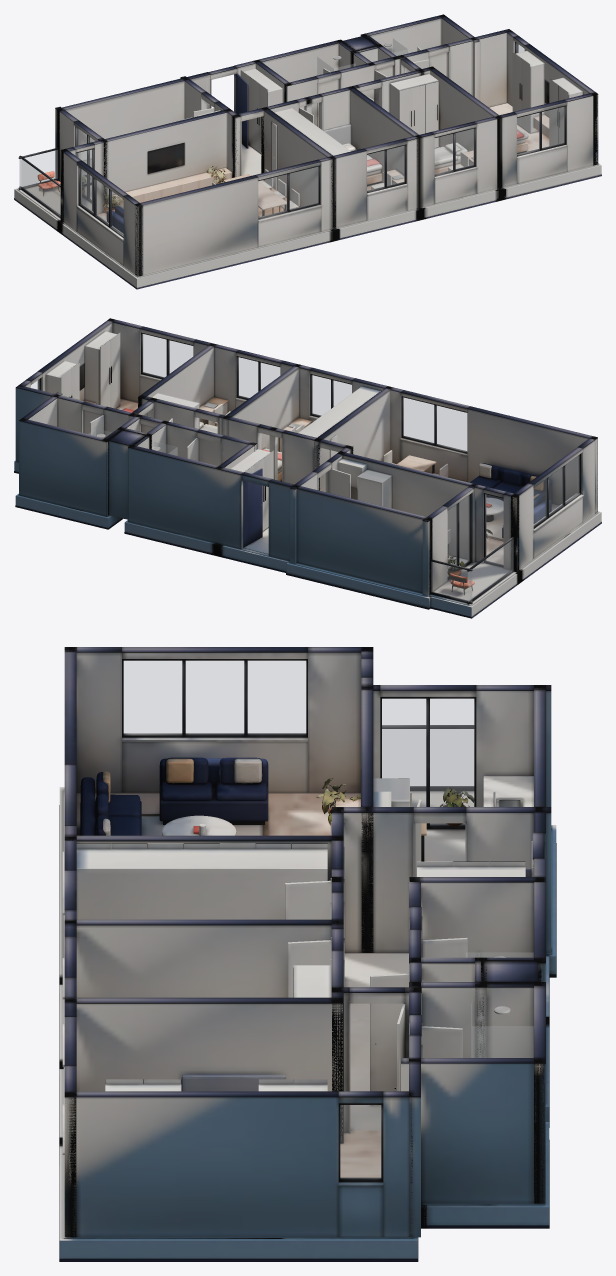
The picture shows the model from 3 angles, top to bottom: view 1: azimuth 30°, elevation 25°; view 2: azimuth 150°, elevation 25°; view 3: azimuth 270°, elevation 25°; orthographic projection. The views are drawn at different scales.
Parts seen in each view (by area): view 1: plan, glass3_m, glass6_m, glass2_m, glass5_m, glass4_m, railg3_m, railg0_m, glass1_m; view 2: plan, glass3_m, glass2_m, glass6_m, railg3_m, railg0_m, glass0_m, glass1_m, glass5_m, glass4_m; view 3: plan, glass2_m, glass0_m, railg3_m, glass7_m, sg.002_m.
Part boxes in pixels (x1=…): plan: x1=14, y1=14, x2=601, y2=289; glass3_m: x1=258, y1=167, x2=318, y2=217; glass6_m: x1=517, y1=107, x2=564, y2=154; glass2_m: x1=80, y1=168, x2=123, y2=235; glass5_m: x1=435, y1=129, x2=474, y2=174; glass4_m: x1=367, y1=146, x2=404, y2=190; railg3_m: x1=20, y1=159, x2=60, y2=214; railg0_m: x1=19, y1=150, x2=57, y2=187; glass1_m: x1=76, y1=149, x2=92, y2=209; plan: x1=14, y1=318, x2=601, y2=618; glass3_m: x1=403, y1=397, x2=466, y2=451; glass2_m: x1=534, y1=455, x2=579, y2=525; glass6_m: x1=142, y1=334, x2=192, y2=377; railg3_m: x1=468, y1=539, x2=513, y2=601; railg0_m: x1=431, y1=562, x2=471, y2=601; glass0_m: x1=448, y1=495, x2=469, y2=576; glass1_m: x1=485, y1=494, x2=503, y2=564; glass5_m: x1=238, y1=357, x2=279, y2=398; glass4_m: x1=312, y1=375, x2=351, y2=415; plan: x1=59, y1=647, x2=556, y2=1261; glass2_m: x1=124, y1=661, x2=305, y2=733; glass0_m: x1=382, y1=699, x2=473, y2=824; railg3_m: x1=382, y1=729, x2=473, y2=785; glass7_m: x1=340, y1=1105, x2=380, y2=1178; sg.002_m: x1=471, y1=1026, x2=533, y2=1057.
Size of the model in its own units: 15.64 by 2.62 by 7.24.
Materials: 2 (1 with a texture image).
